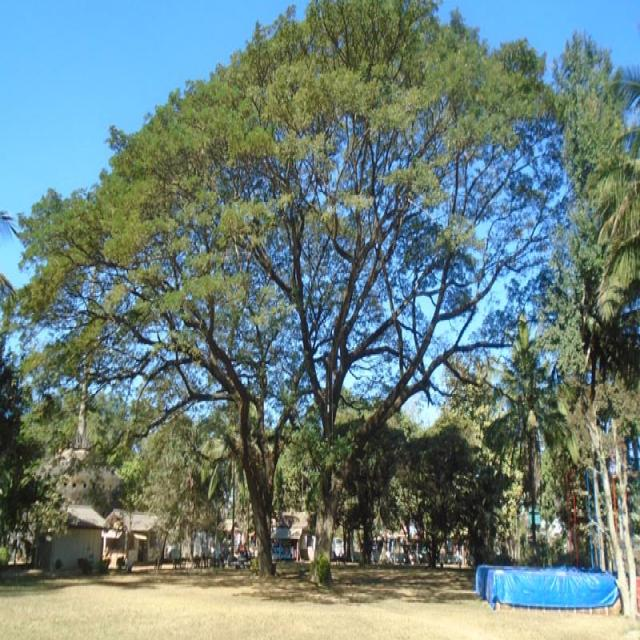Acacia: (119, 0, 552, 562), (15, 6, 363, 590)
